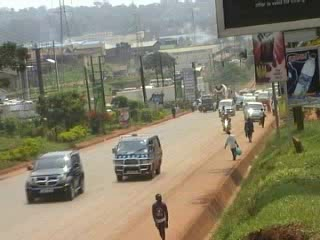Car: (23, 148, 86, 205)
Motorcycle: (219, 112, 236, 135), (215, 105, 228, 121), (196, 98, 203, 112)
